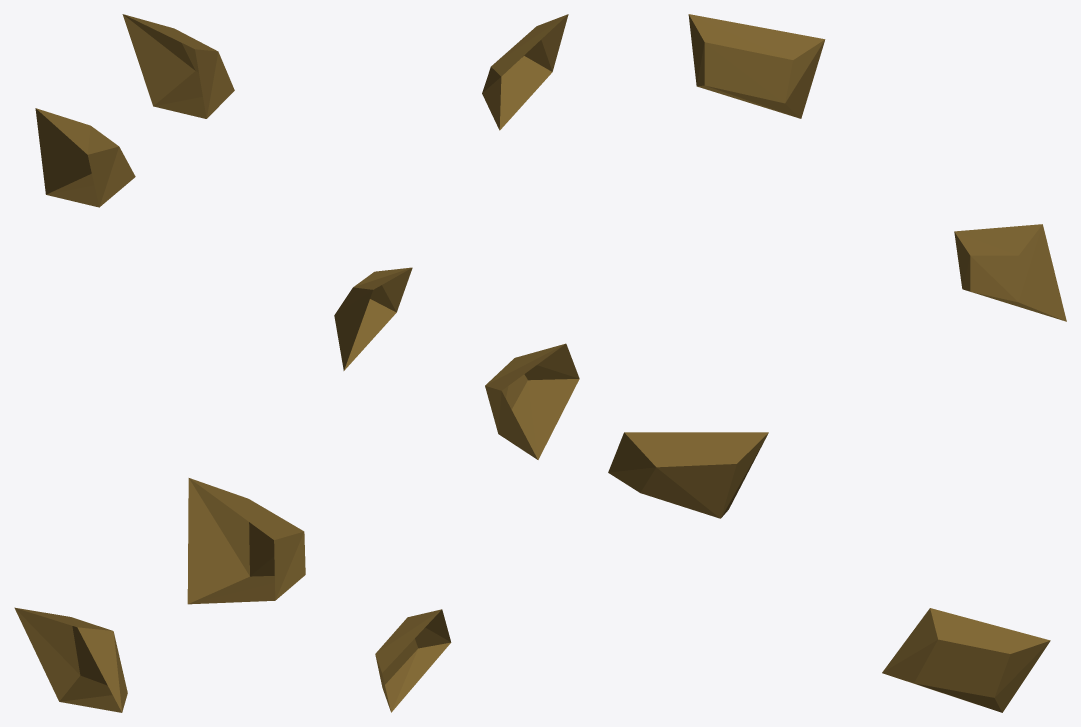
The model's file is obj_hand_holds_0.obj.
The picture shows the model from 3 angles, left to right: view 1: azimuth 30°, elevation 25°; view 2: azimuth 150°, elevation 25°; view 3: azimuth 270°, elevation 25°; orthographic projection. The views are drawn at different scales.
Bounding box in the file's own units: 0.2188 × 1.45 × 0.8906.
